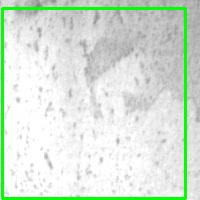pitted_surface: (2, 9, 185, 198)
